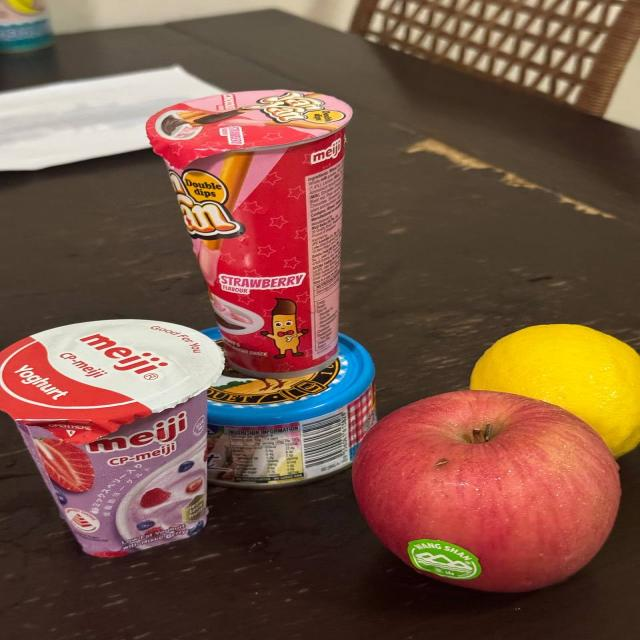apple: (327, 383, 629, 597)
lemon: (458, 316, 640, 472)
tuna-can: (185, 318, 386, 495)
yanyan-cracker: (129, 87, 391, 383)
yogurt: (0, 308, 227, 568)
